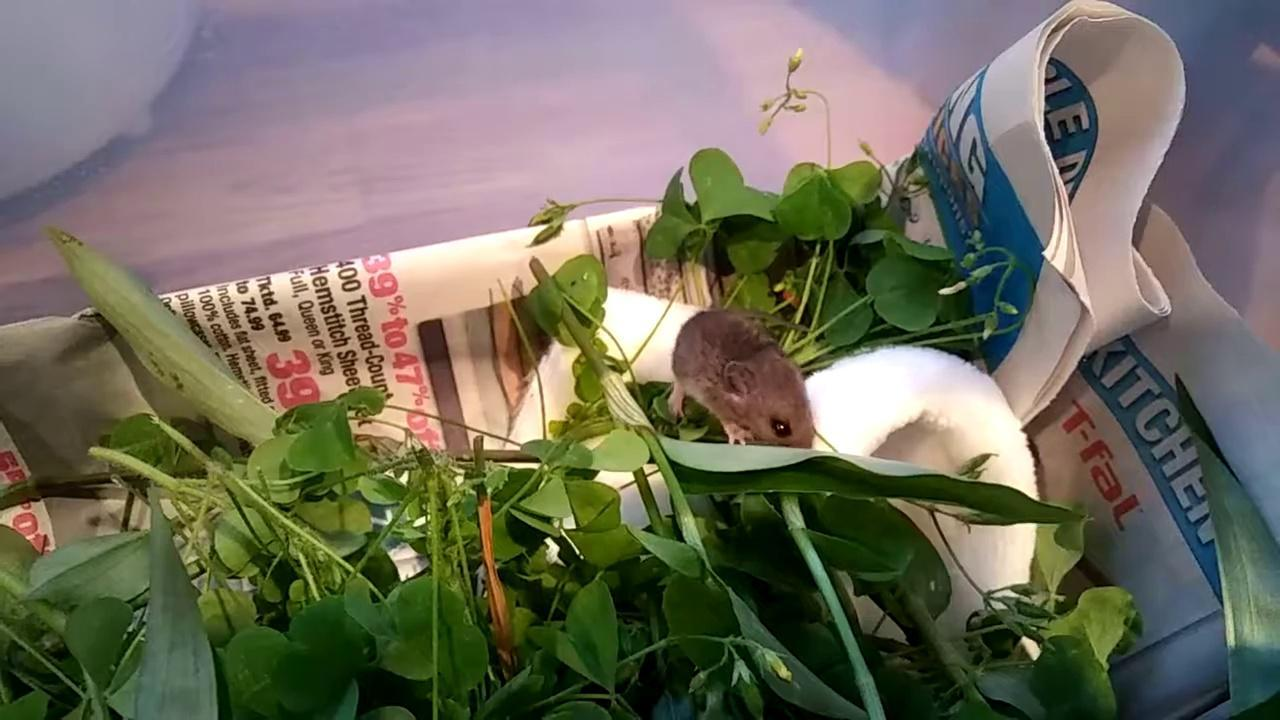rat: (674, 308, 816, 448)
